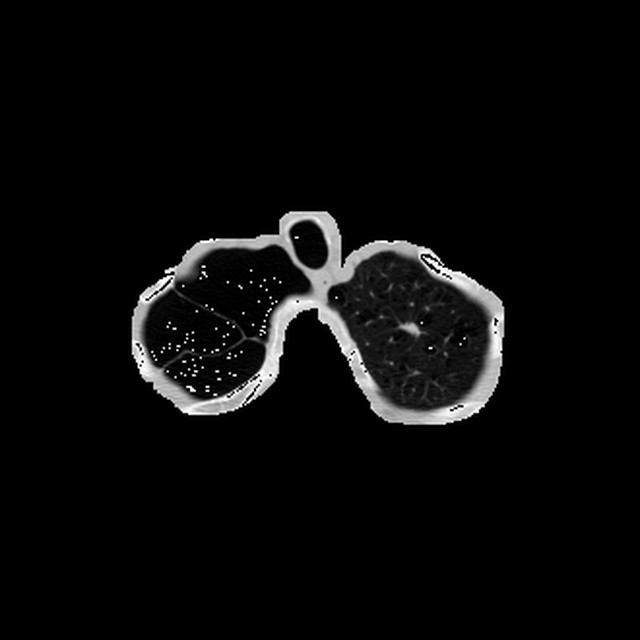PN: (403, 320, 419, 336)
